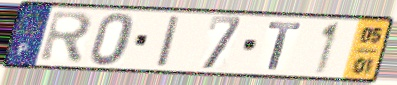0: (88, 11, 136, 68)
1: (313, 19, 346, 77)
7: (201, 13, 244, 73)
I: (154, 13, 183, 69)
R: (37, 9, 95, 66)
T: (266, 21, 304, 72)
